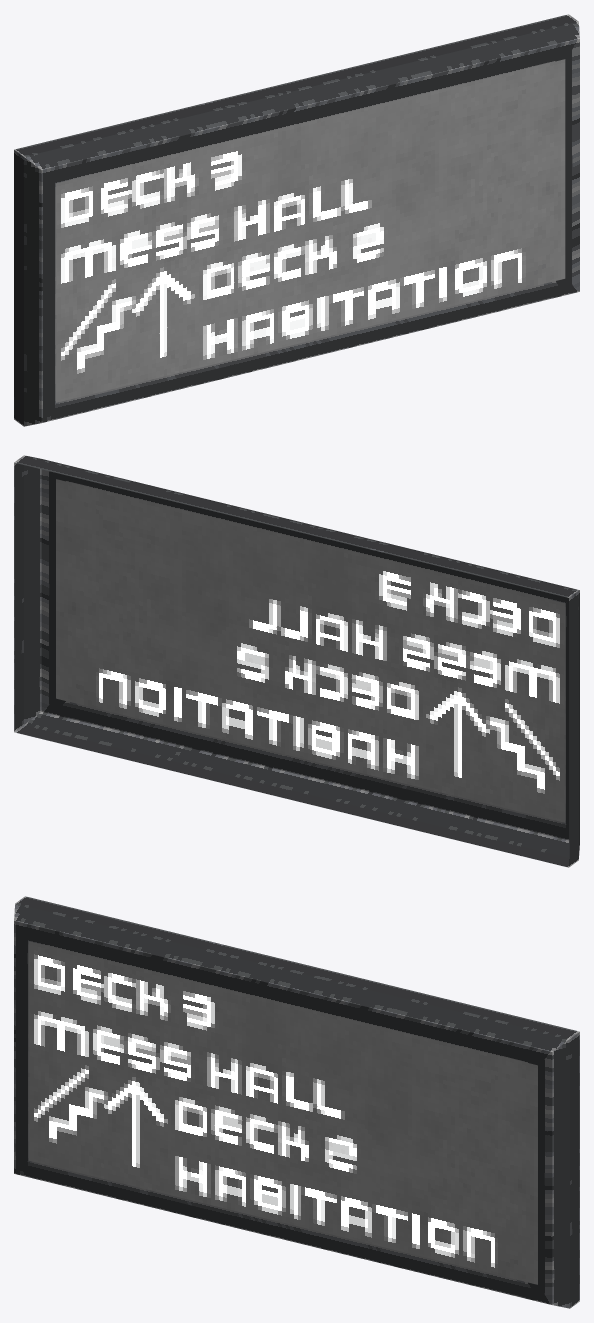
The model's file is deck3-up.glb.
The picture shows the model from 3 angles, top to bottom: view 1: azimuth 30°, elevation 25°; view 2: azimuth 150°, elevation 25°; view 3: azimuth 330°, elevation 25°; orthographic projection.
Parts seen in each view (by area): view 1: deck3-up; view 2: deck3-up; view 3: deck3-up.
Part boxes in pixels (x1,y1,x2,y2): deck3-up: [14, 14, 579, 426]; deck3-up: [14, 455, 579, 867]; deck3-up: [14, 896, 579, 1308].
Bounding box in the file's own units: 21.2 × 9.85 × 1.28.
Materials: 1 (1 with a texture image).
